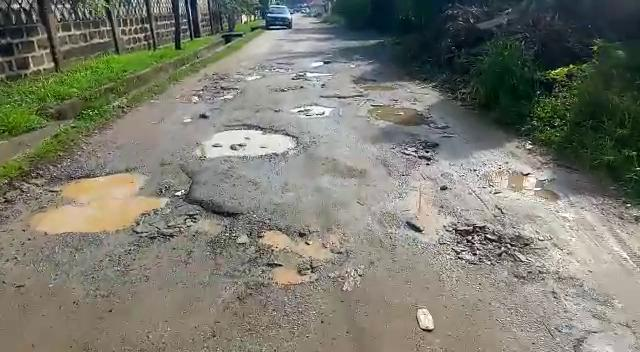pothole: (17, 162, 246, 241), (239, 222, 352, 290), (442, 222, 539, 270), (203, 123, 303, 160), (480, 168, 563, 205), (368, 104, 433, 127), (179, 86, 242, 107), (288, 103, 332, 117), (319, 93, 375, 102)
